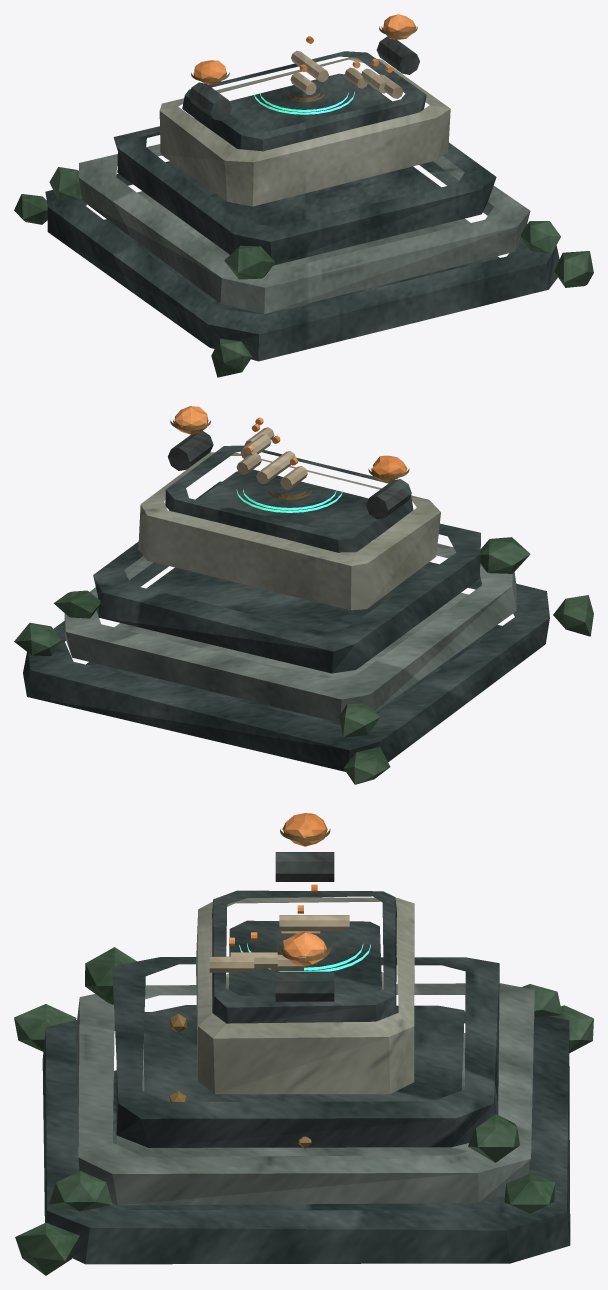
Rendered from 0468_altar_18.glb.
3 renders of one model, top to bottom at view 1: azimuth 30°, elevation 25°; view 2: azimuth 150°, elevation 25°; view 3: azimuth 270°, elevation 25°, orthographic. The views are drawn at different scales.
Visible parts, largest first — view 1: stone_dark, stone, stone_light, moss, iron, bone, amber, brass, glow; view 2: stone_dark, stone, stone_light, moss, iron, bone, amber, brass, glow; view 3: stone_dark, stone, stone_light, moss, iron, bone, amber, brass.
Boxes of the visible parts, left/top/right/bottom form: stone_dark: left=45, top=51, right=559, bottom=361; stone: left=78, top=144, right=530, bottom=314; stone_light: left=159, top=57, right=450, bottom=206; moss: left=14, top=84, right=593, bottom=377; iron: left=188, top=36, right=419, bottom=120; bone: left=290, top=50, right=403, bottom=98; amber: left=194, top=14, right=416, bottom=85; brass: left=191, top=26, right=417, bottom=102; glow: left=253, top=91, right=354, bottom=114; stone_dark: left=23, top=445, right=549, bottom=771; stone: left=64, top=537, right=516, bottom=722; stone_light: left=138, top=452, right=440, bottom=610; moss: left=14, top=537, right=593, bottom=784; iron: left=168, top=430, right=411, bottom=519; bone: left=236, top=427, right=307, bottom=489; amber: left=174, top=406, right=407, bottom=482; brass: left=170, top=419, right=409, bottom=499; glow: left=236, top=489, right=342, bottom=512; stone_dark: left=42, top=890, right=570, bottom=1264; stone: left=76, top=983, right=534, bottom=1205; stone_light: left=196, top=897, right=414, bottom=1094; moss: left=14, top=947, right=593, bottom=1275; iron: left=275, top=852, right=334, bottom=1001; bone: left=209, top=915, right=349, bottom=972; amber: left=229, top=813, right=327, bottom=966; brass: left=169, top=828, right=332, bottom=1148.
Size of the model in its own units: 2.34 by 1.31 by 2.37.
Materials: 9 (9 with a texture image).
